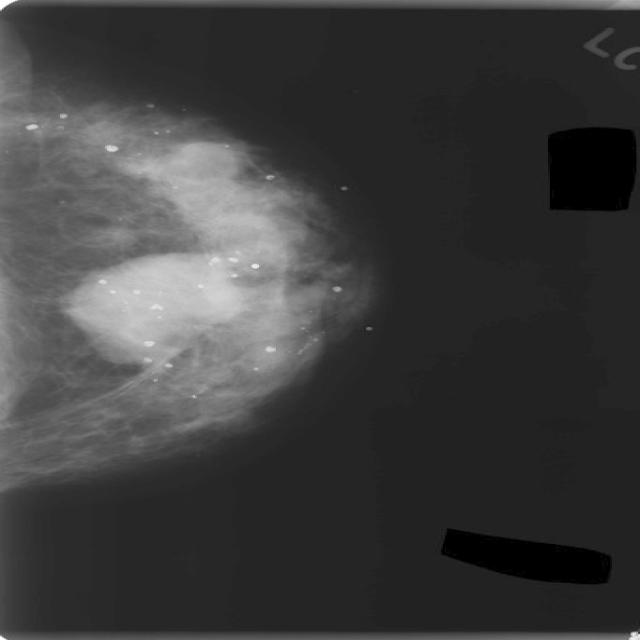tumour: (60, 250, 242, 355)
